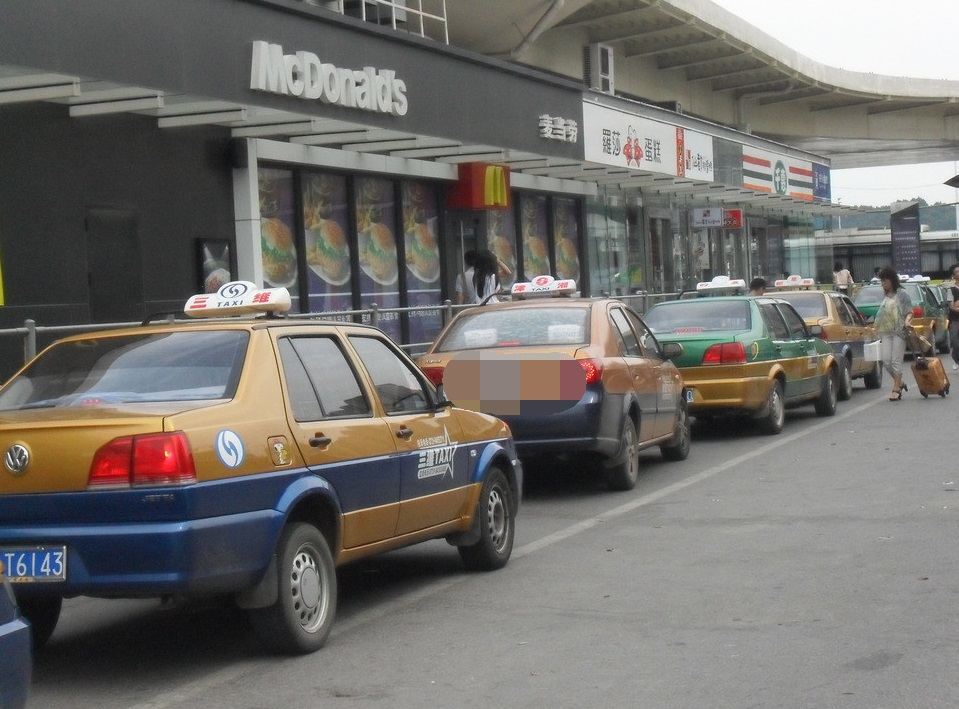taxi: (3, 278, 530, 663)
